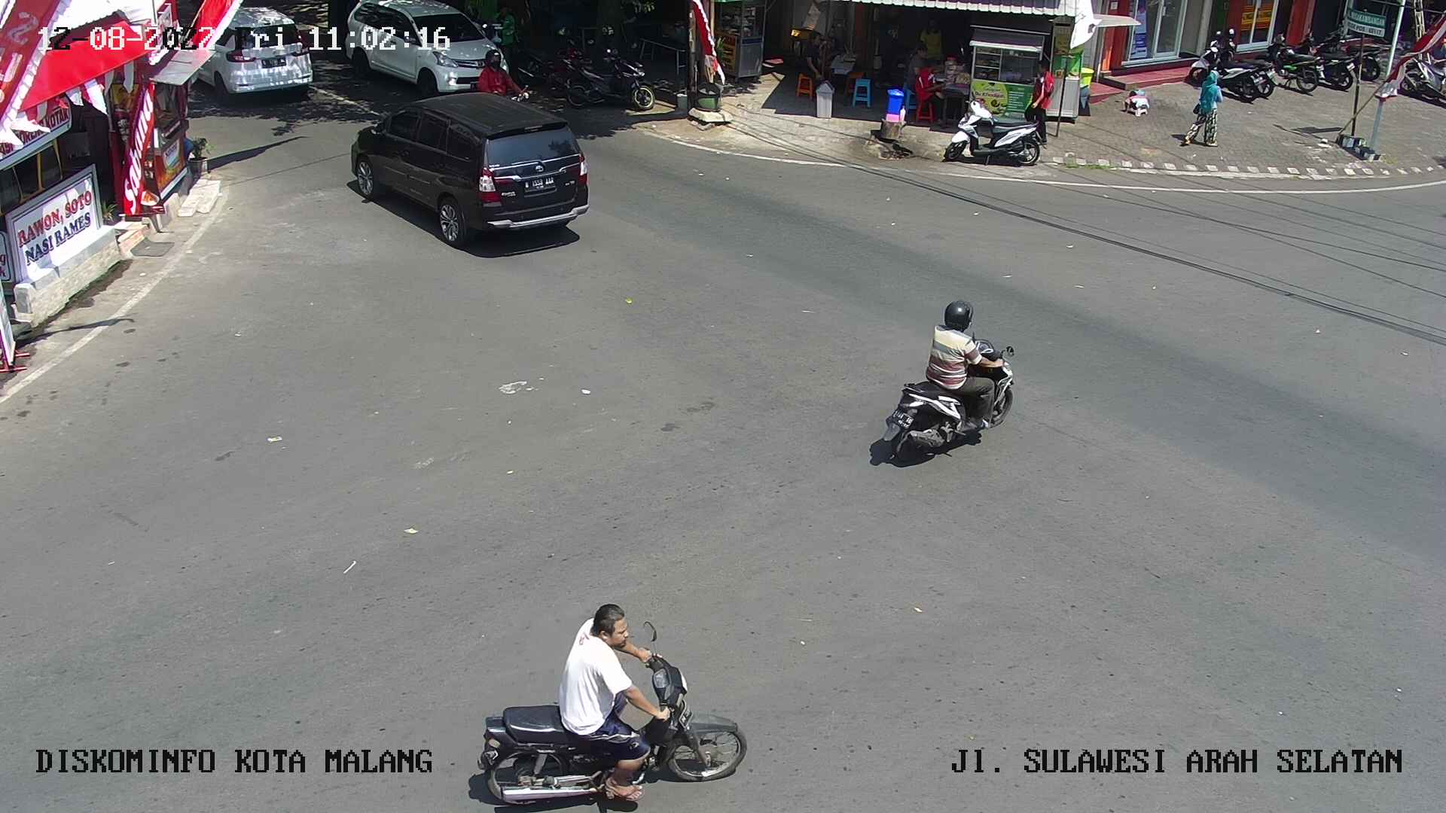with_helmet: (850, 281, 1037, 492)
without_helmet: (435, 595, 769, 813)
